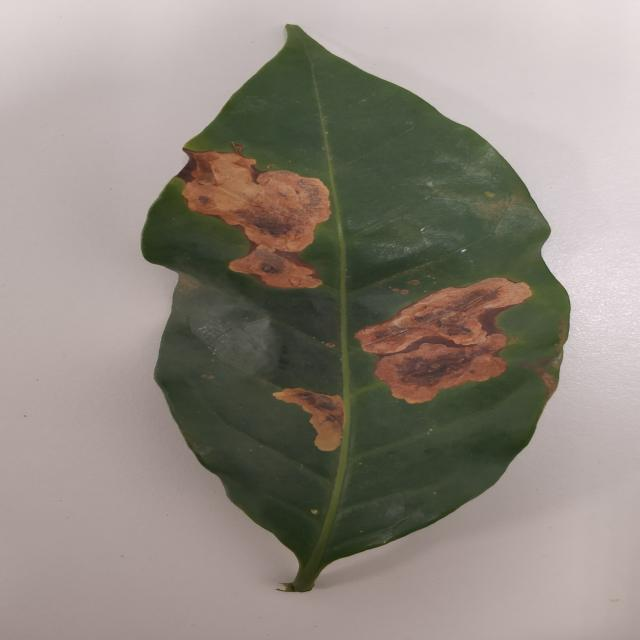Plaga-Minador: (140, 25, 572, 596)
